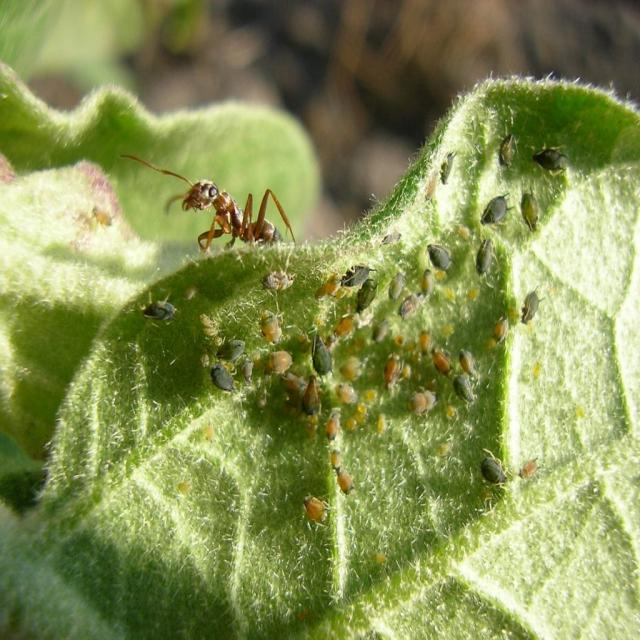Aphid-Grouped-: (185, 237, 552, 492)
Aphid-Grown-: (461, 444, 518, 493), (472, 189, 524, 232), (301, 326, 341, 381), (517, 183, 553, 240), (462, 232, 502, 282), (138, 289, 185, 329), (298, 484, 336, 532), (445, 374, 488, 410), (423, 239, 455, 276), (329, 459, 357, 497)
